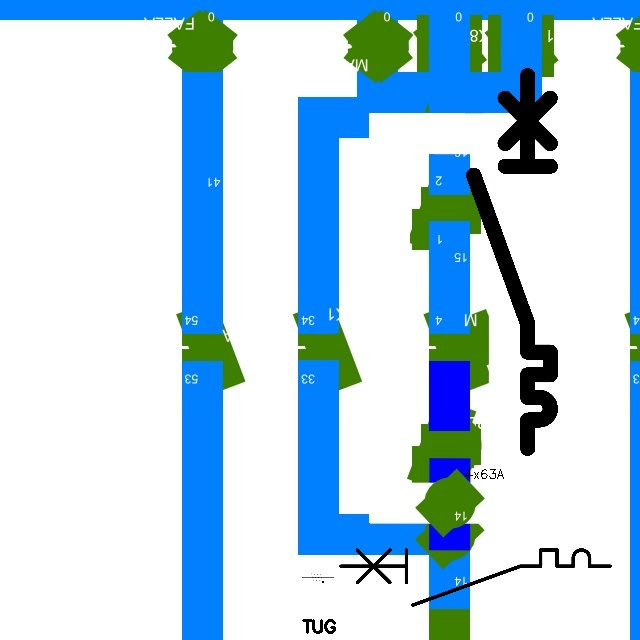interruptor_termomagnetico: (464, 66, 560, 458), (334, 543, 617, 612)
